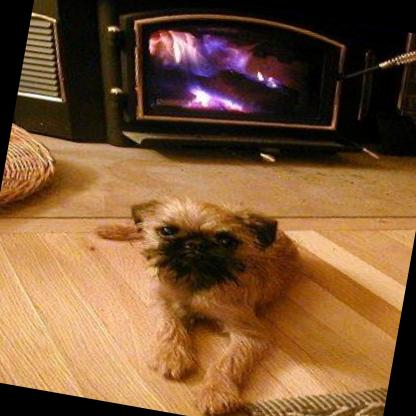Brabancon_griffon: (64, 179, 311, 416)
